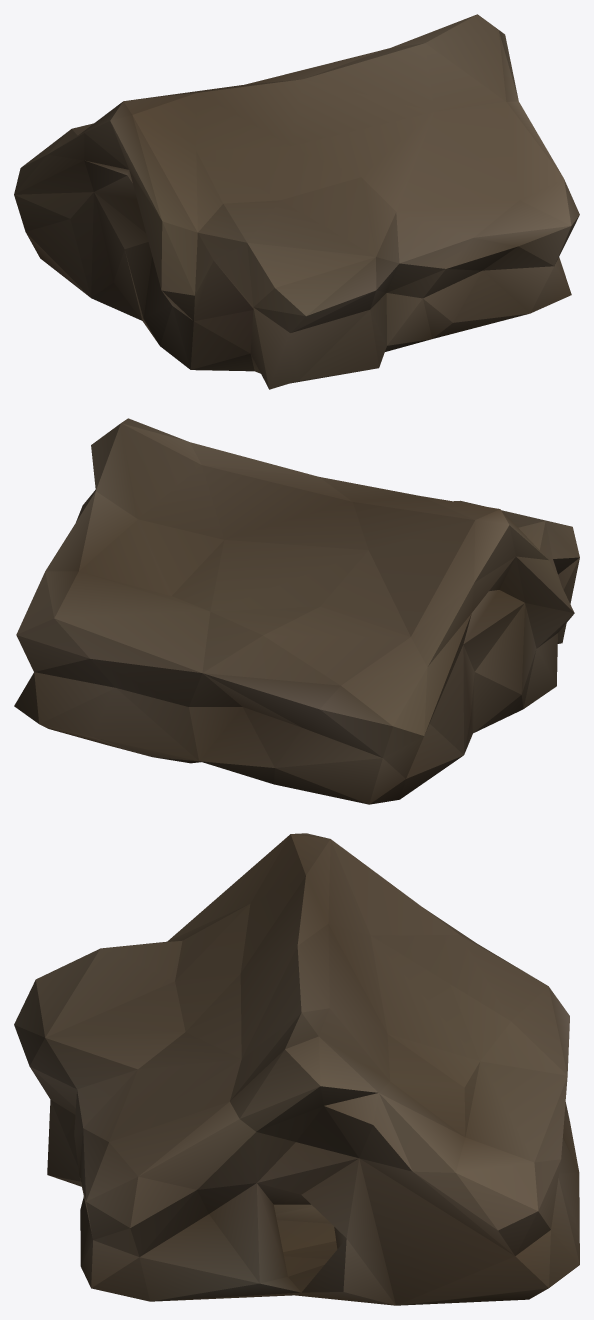
File: barracks.glb
3 renders of one model, top to bottom at view 1: azimuth 30°, elevation 25°; view 2: azimuth 150°, elevation 25°; view 3: azimuth 270°, elevation 25°, orthographic. The views are drawn at different scales.
Visible parts, largest first — view 1: model.001; view 2: model.001; view 3: model.001.
Boxes of the visible parts, bbox=[...] form: model.001: bbox=[14, 14, 579, 389]; model.001: bbox=[14, 418, 579, 804]; model.001: bbox=[14, 833, 579, 1305].
Bounding box in the file's own units: 1 × 0.5438 × 1.01.
